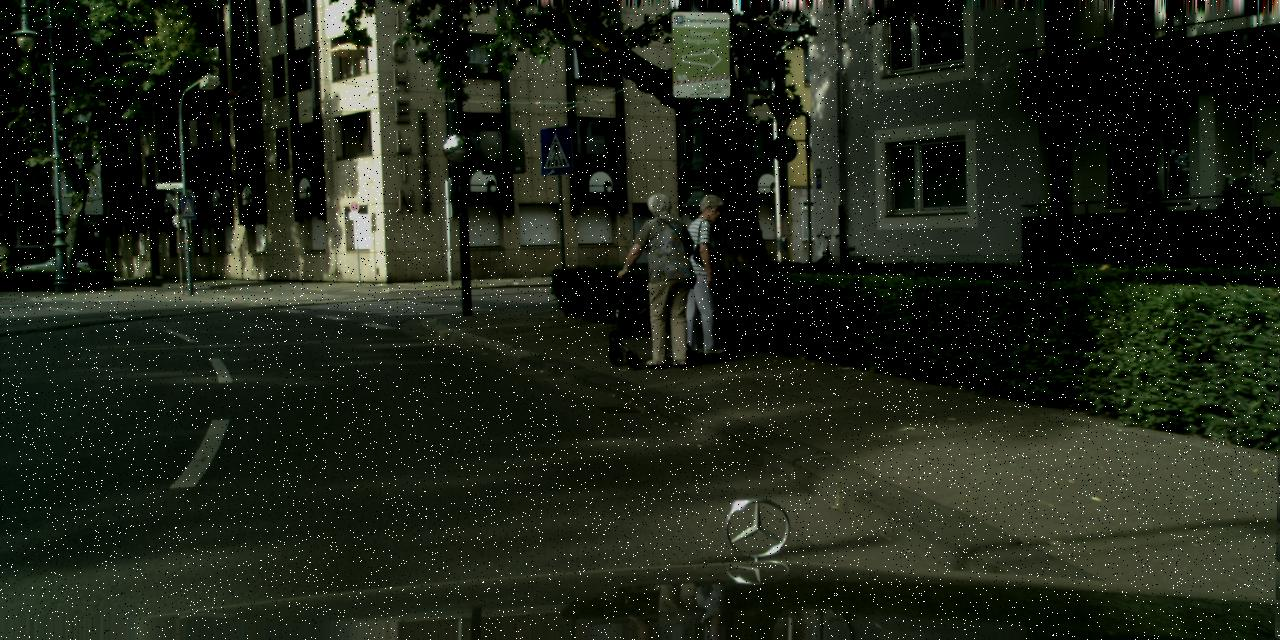ped: (628, 192, 698, 366), (675, 195, 739, 352)
